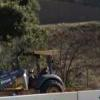tractors: (0, 51, 66, 92)
